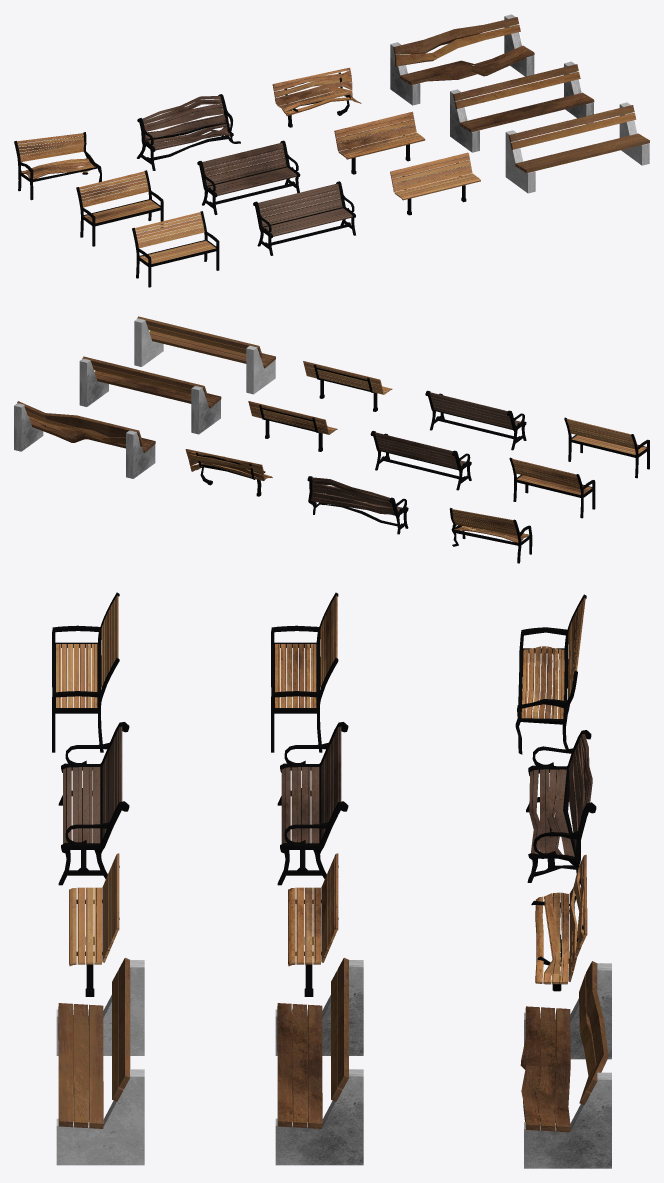
The model's file is bench.glb.
The picture shows the model from 3 angles, top to bottom: view 1: azimuth 30°, elevation 25°; view 2: azimuth 150°, elevation 25°; view 3: azimuth 270°, elevation 25°; orthographic projection. The views are drawn at different scales.
Visible parts, largest first — view 1: Park Bench_003_Deform, Park Bench_003, Park Bench_003.001, Park Bench_002, Park Bench_002.001, Park Bench_002_Deform, Park Bench_004, Park Bench_004.001, Park Bench_004_Deform, Park Bench_001.001, Park Bench_001, Park Bench_001_Deform; view 2: Park Bench_003_Deform, Park Bench_003.001, Park Bench_003, Park Bench_002_Deform, Park Bench_002, Park Bench_002.001, Park Bench_004.001, Park Bench_004, Park Bench_004_Deform, Park Bench_001_Deform, Park Bench_001.001, Park Bench_001; view 3: Park Bench_003, Park Bench_003.001, Park Bench_003_Deform, Park Bench_002_Deform, Park Bench_002.001, Park Bench_002, Park Bench_004, Park Bench_004.001, Park Bench_004_Deform, Park Bench_001_Deform, Park Bench_001.001, Park Bench_001.
Boxes of the visible parts, <box> form: Park Bench_003_Deform: <box>390,14,534,105</box>; Park Bench_003: <box>505,102,649,193</box>; Park Bench_003.001: <box>450,61,594,152</box>; Park Bench_002: <box>253,181,355,255</box>; Park Bench_002.001: <box>197,140,300,214</box>; Park Bench_002_Deform: <box>137,94,240,170</box>; Park Bench_004: <box>132,211,219,287</box>; Park Bench_004.001: <box>76,170,163,246</box>; Park Bench_004_Deform: <box>14,132,101,200</box>; Park Bench_001.001: <box>334,111,425,174</box>; Park Bench_001: <box>390,152,480,215</box>; Park Bench_001_Deform: <box>272,67,361,127</box>; Park Bench_003_Deform: <box>14,401,155,478</box>; Park Bench_003.001: <box>79,356,221,434</box>; Park Bench_003: <box>134,316,275,394</box>; Park Bench_002_Deform: <box>307,476,408,534</box>; Park Bench_002: <box>425,390,526,450</box>; Park Bench_002.001: <box>370,431,471,490</box>; Park Bench_004.001: <box>509,457,595,518</box>; Park Bench_004: <box>564,417,649,478</box>; Park Bench_004_Deform: <box>449,508,532,563</box>; Park Bench_001_Deform: <box>185,449,272,496</box>; Park Bench_001.001: <box>248,401,337,451</box>; Park Bench_001: <box>303,361,392,411</box>; Park Bench_003: <box>56,957,144,1165</box>; Park Bench_003.001: <box>275,957,363,1165</box>; Park Bench_003_Deform: <box>520,961,611,1168</box>; Park Bench_002_Deform: <box>526,730,596,882</box>; Park Bench_002.001: <box>277,722,348,885</box>; Park Bench_002: <box>58,722,129,885</box>; Park Bench_004: <box>52,592,119,752</box>; Park Bench_004.001: <box>271,592,338,752</box>; Park Bench_004_Deform: <box>515,594,586,754</box>; Park Bench_001_Deform: <box>531,854,587,991</box>; Park Bench_001.001: <box>288,853,338,996</box>; Park Bench_001: <box>69,853,119,996</box>.
Size of the model in its own units: 12.98 by 1.24 by 6.33.
Materials: 9 (8 with a texture image).
